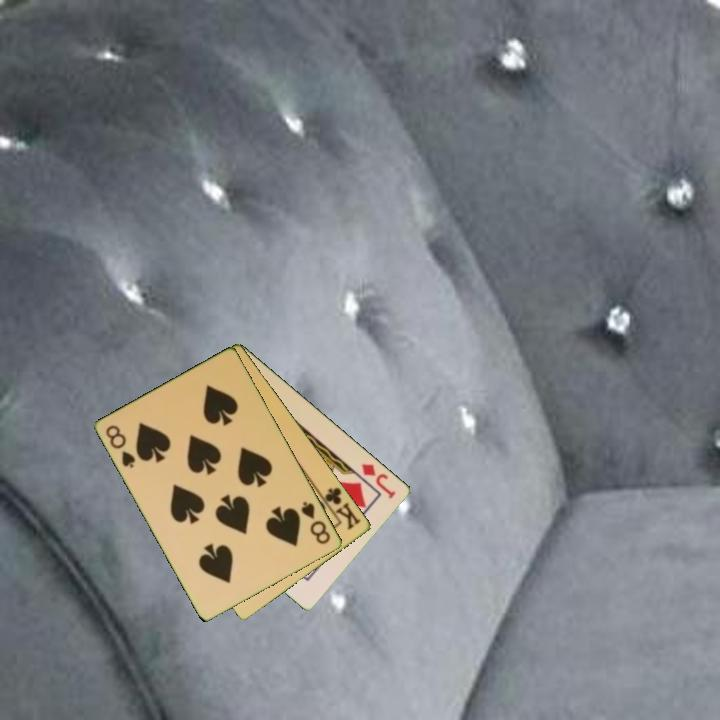8s: (102, 422, 139, 471), (298, 498, 334, 547)
Jd: (358, 460, 399, 502)
Kc: (316, 483, 364, 533)
